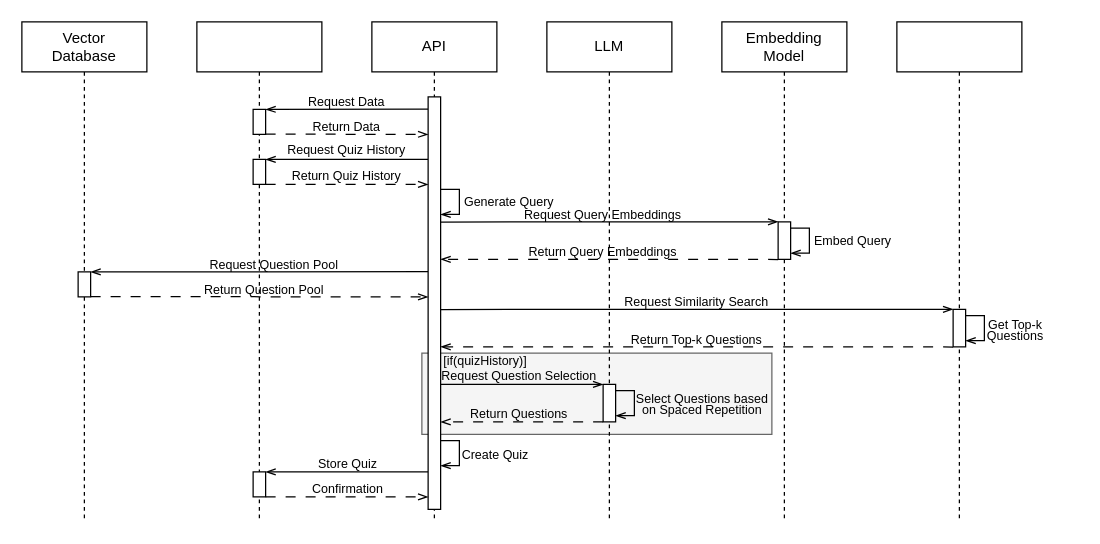
Some shapes in this 1100 by 544 pixel diagram are drawn without their labels. Here are the shapes that lost their labels. From the top down, the box of each, then its label:
(196, 21, 322, 522): Database
(896, 21, 1022, 522): Similarity Search
